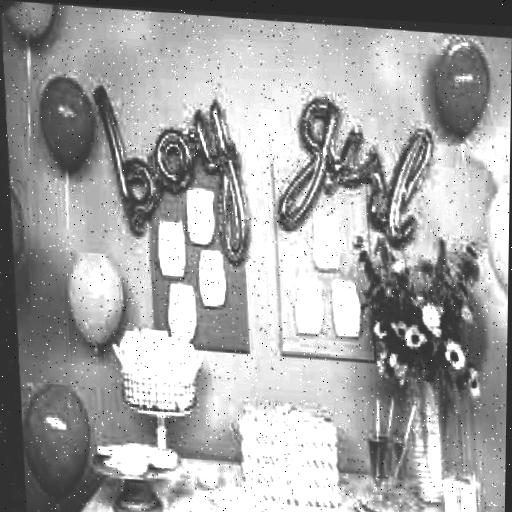balloon: (13, 381, 89, 501), (429, 31, 494, 142), (34, 75, 97, 177), (62, 248, 123, 347), (479, 170, 510, 308), (3, 0, 58, 43), (5, 177, 22, 273)
